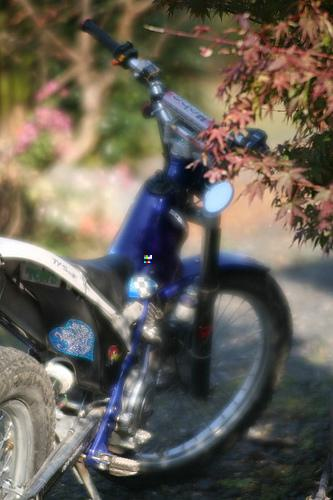car: (1, 18, 295, 500)
